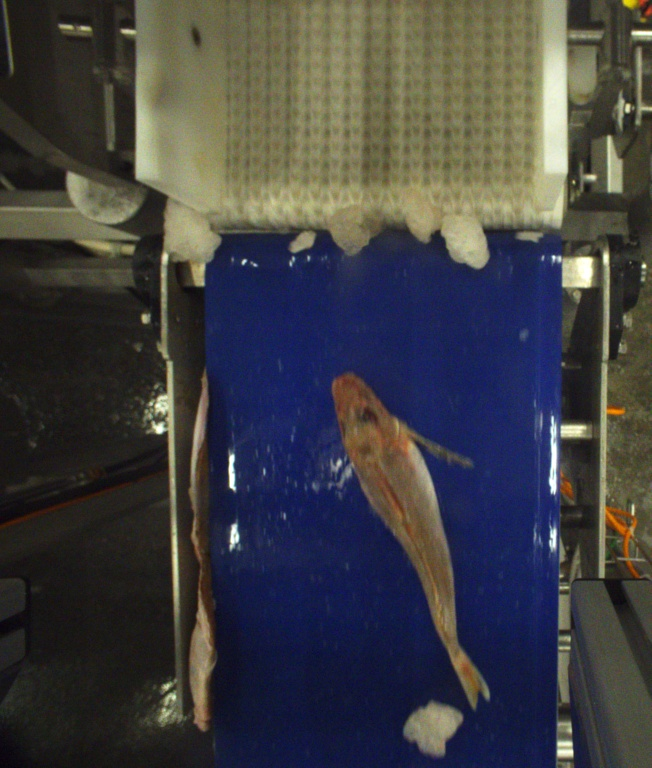GUU: (329, 371, 491, 709)
